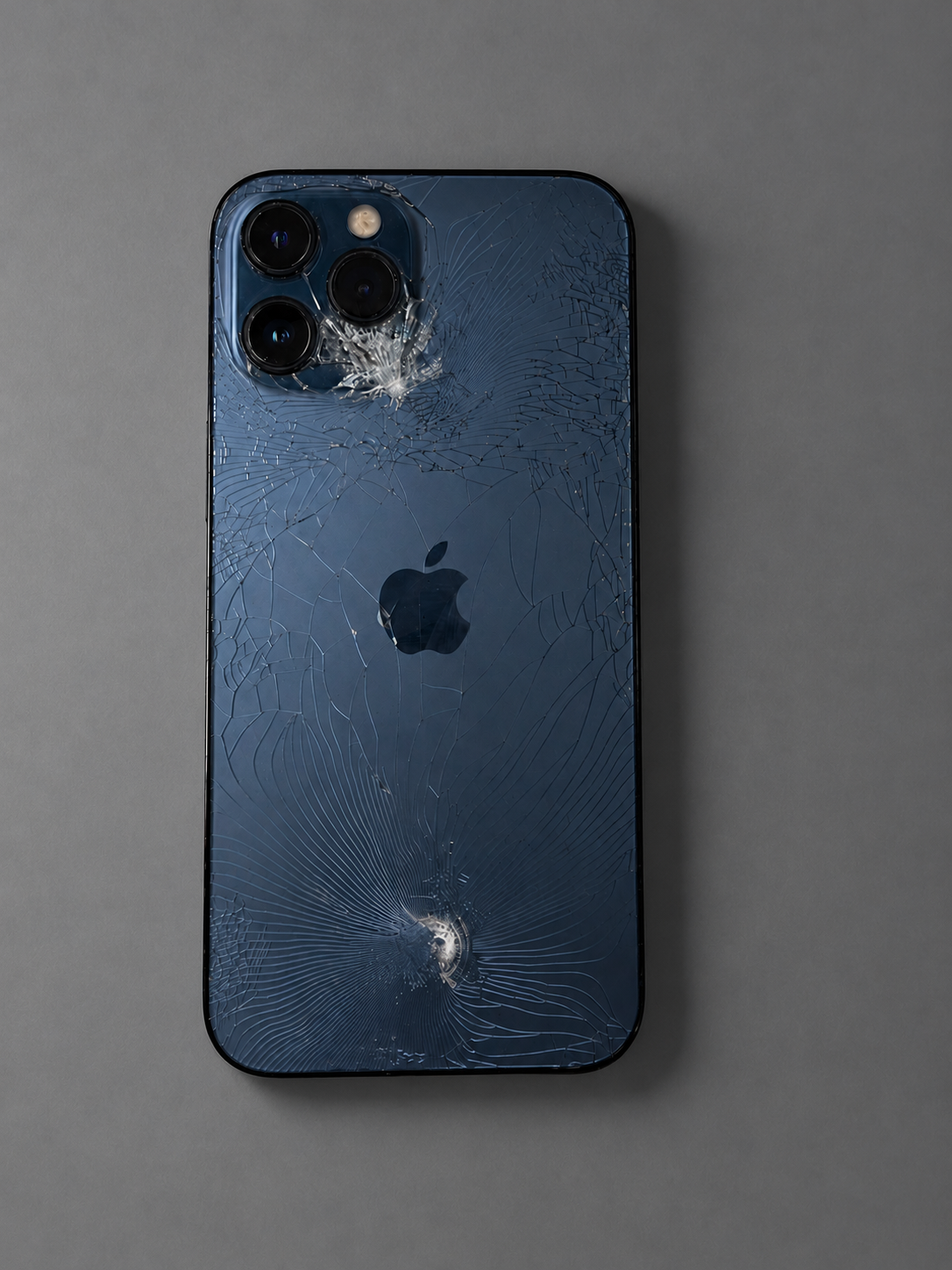iphone_12_pro_max_Crack: (148, 108, 677, 1112)
